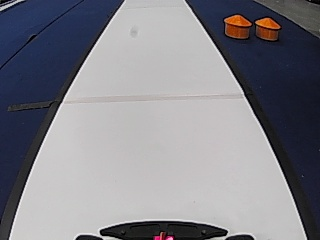granary: (222, 12, 251, 39), (254, 15, 282, 40)
